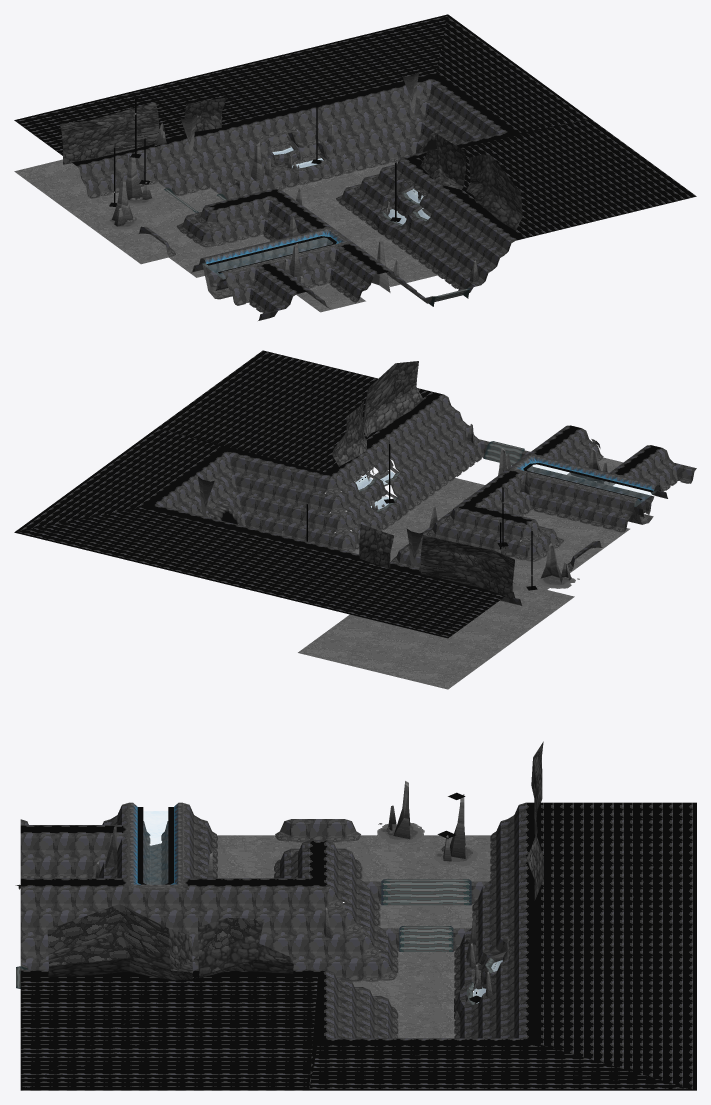
3 renders of one model, top to bottom at view 1: azimuth 30°, elevation 25°; view 2: azimuth 150°, elevation 25°; view 3: azimuth 270°, elevation 25°, orthographic. The views are drawn at different scales.
Visible parts, largest first — view 1: polygon17, polygon13, polygon25, polygon12, polygon24, polygon14, polygon0, polygon4, polygon5, polygon19, polygon8, polygon15 (+3 smaller); view 2: polygon17, polygon13, polygon25, polygon12, polygon24, polygon14, polygon0, polygon5, polygon19, polygon8, polygon4, polygon7 (+2 smaller); view 3: polygon17, polygon13, polygon12, polygon25, polygon24, polygon14, polygon1, polygon0, polygon5, polygon19, polygon7, polygon4 (+3 smaller).
Boxes of the visible parts, box(x1,y1,x2,y2) form: polygon17: box(14, 14, 696, 293); polygon13: box(79, 84, 511, 320); polygon25: box(14, 159, 437, 312); polygon12: box(77, 79, 515, 314); polygon24: box(60, 97, 522, 230); polygon14: box(88, 126, 464, 320); polygon0: box(112, 72, 478, 292); polygon4: box(189, 130, 431, 299); polygon5: box(203, 238, 332, 278); polygon19: box(160, 141, 479, 298); polygon8: box(205, 230, 344, 273); polygon15: box(109, 98, 401, 221); polygon17: box(14, 350, 661, 638); polygon13: box(162, 397, 694, 605); polygon25: box(298, 457, 629, 689); polygon12: box(155, 394, 696, 599); polygon24: box(332, 361, 514, 599); polygon14: box(244, 453, 692, 605); polygon0: box(198, 424, 609, 583); polygon5: box(528, 465, 655, 506); polygon19: box(478, 439, 658, 503); polygon8: box(516, 456, 655, 500); polygon4: box(325, 470, 653, 551); polygon7: box(511, 454, 656, 499); polygon17: box(20, 802, 696, 1090); polygon13: box(20, 805, 518, 1038); polygon12: box(20, 803, 525, 1038); polygon25: box(216, 835, 492, 1038); polygon24: box(47, 741, 543, 980); polygon14: box(20, 822, 514, 1038); polygon1: box(16, 879, 471, 988); polygon0: box(95, 781, 492, 997); polygon5: box(144, 811, 167, 883); polygon19: box(20, 803, 496, 974); polygon7: box(128, 802, 182, 886); polygon4: box(149, 843, 509, 1003).
Bounding box in the file's own units: 9.78 × 2.78 × 9.47.
Materials: 26 (26 with a texture image).
